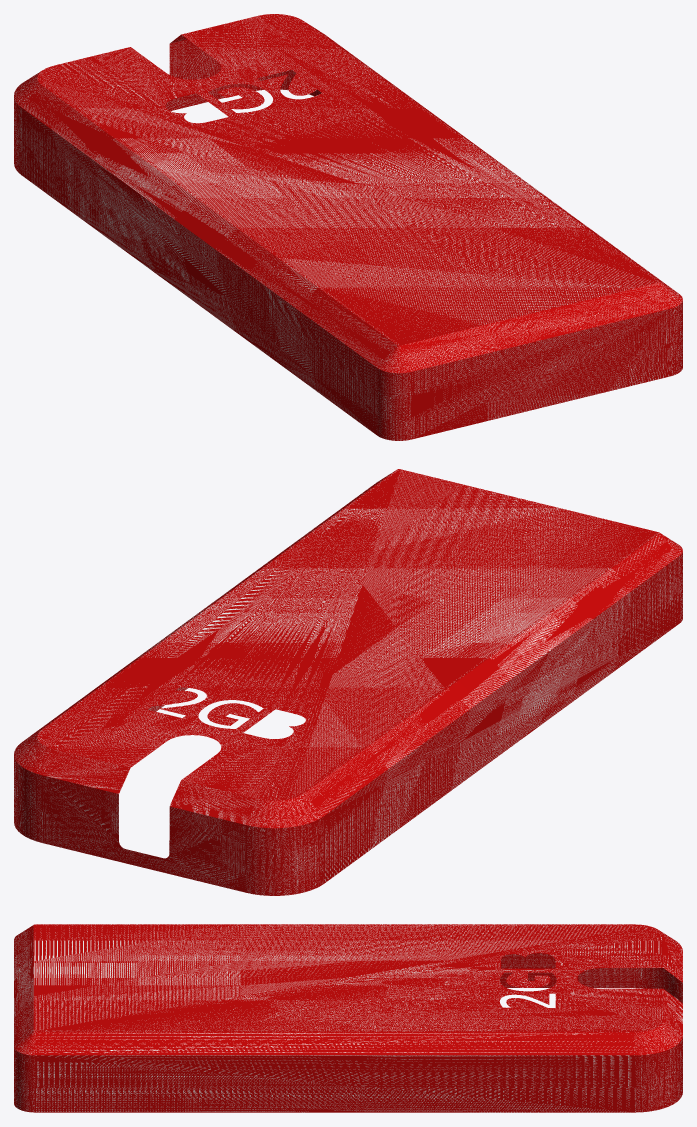
File: original-29.obj
3 views of the same model, one above another, from view 1: azimuth 30°, elevation 25°; view 2: azimuth 150°, elevation 25°; view 3: azimuth 270°, elevation 25° (orthographic). The views are drawn at different scales.
Parts seen in each view (by area): view 1: mesh28/mesh28-geometry#mesh28-geometry; view 2: mesh28/mesh28-geometry#mesh28-geometry; view 3: mesh28/mesh28-geometry#mesh28-geometry.
Part boxes in pixels (left/top/right/bottom): mesh28/mesh28-geometry#mesh28-geometry: left=14, top=14, right=682, bottom=440; mesh28/mesh28-geometry#mesh28-geometry: left=14, top=469, right=682, bottom=895; mesh28/mesh28-geometry#mesh28-geometry: left=14, top=924, right=682, bottom=1112.
Size of the model in its own units: 0.4986 by 0.1345 by 1.13.
